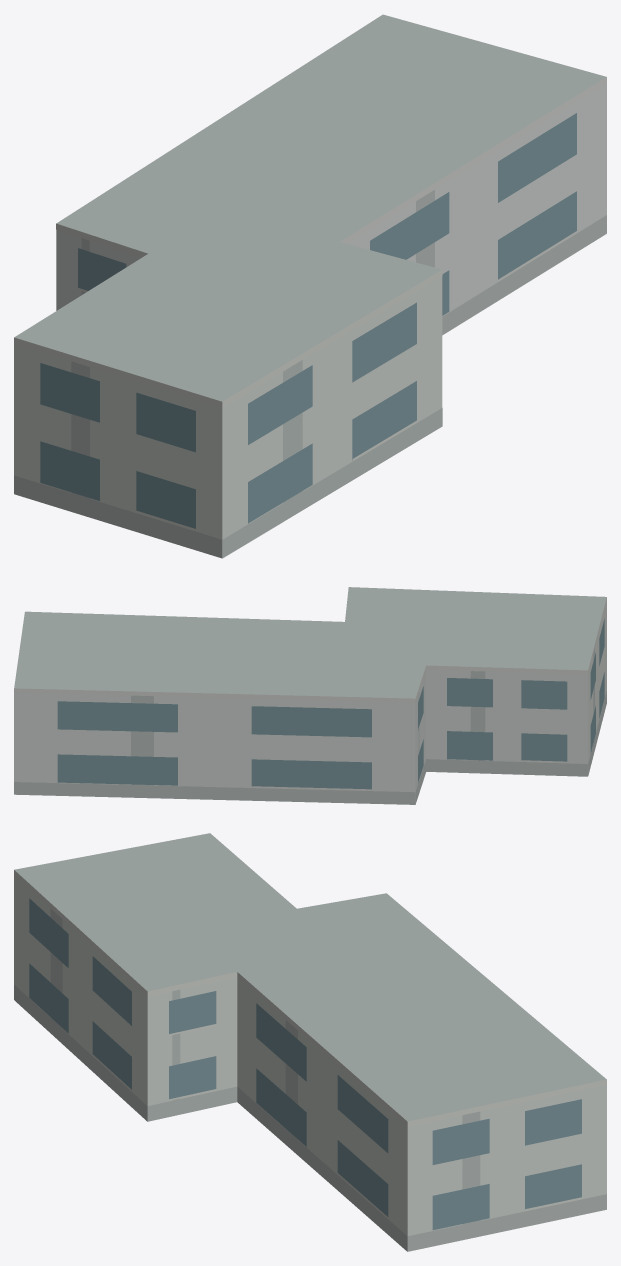
The model's file is survey-upis-32708369.glb.
3 renders of one model, top to bottom at view 1: azimuth 30°, elevation 25°; view 2: azimuth 150°, elevation 25°; view 3: azimuth 270°, elevation 25°, orthographic. The views are drawn at different scales.
Parts seen in each view (by area): view 1: survey-upis-32708369.tmp; view 2: survey-upis-32708369.tmp; view 3: survey-upis-32708369.tmp.
Boxes of the visible parts, x1,y1,x2,y2 form: survey-upis-32708369.tmp: [14, 14, 606, 558]; survey-upis-32708369.tmp: [14, 587, 606, 804]; survey-upis-32708369.tmp: [14, 833, 606, 1251].
Size of the model in its own units: 28.98 by 6.1 by 25.17.
